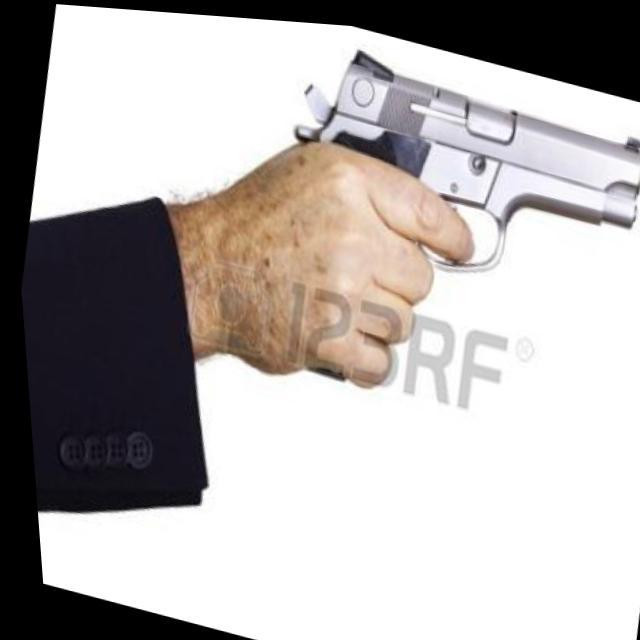weapon: (223, 20, 640, 469)
